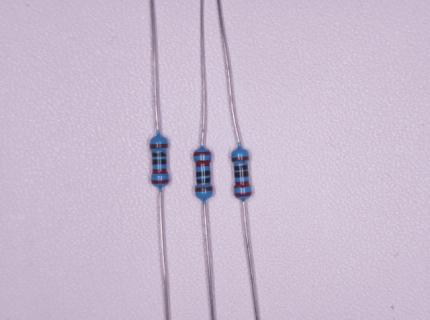Black band: (235, 171, 249, 178), (196, 171, 211, 177), (152, 159, 166, 165), (197, 178, 210, 184), (152, 152, 167, 157), (234, 165, 248, 170)
Brown band: (195, 186, 212, 192), (232, 156, 249, 162), (150, 144, 167, 148)
Red band: (233, 181, 251, 187), (196, 160, 210, 167), (152, 168, 167, 174), (193, 151, 211, 156), (234, 192, 252, 197), (152, 179, 169, 184)
